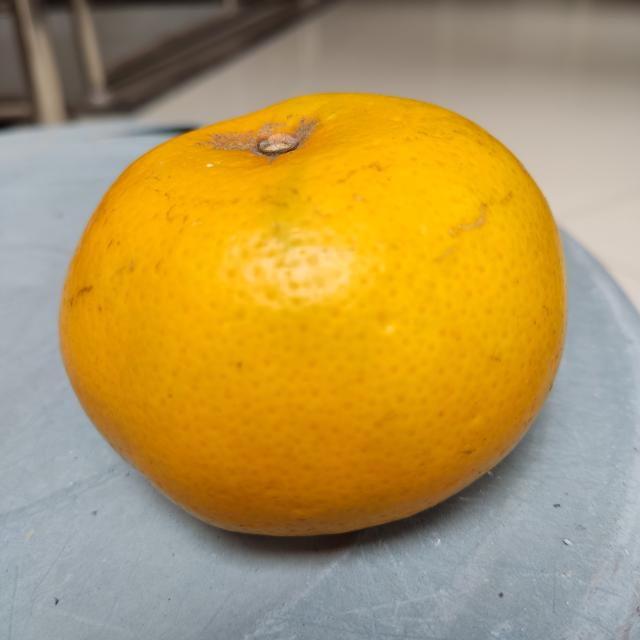orange: (56, 86, 571, 538)
